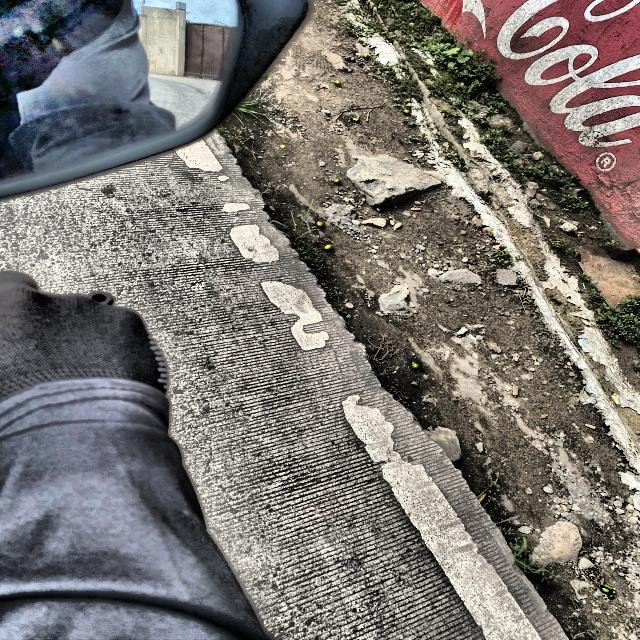no_or_faded_road_markings: (342, 372, 546, 640), (261, 281, 329, 351), (186, 132, 234, 160), (230, 226, 267, 259), (267, 224, 297, 258), (311, 284, 331, 310), (223, 203, 241, 213)
